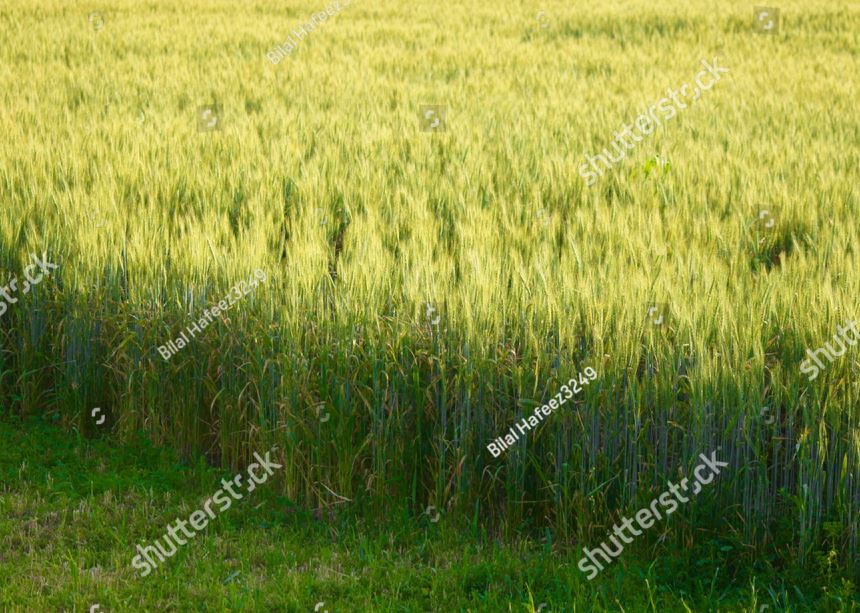Wheat: (154, 219, 657, 487)
